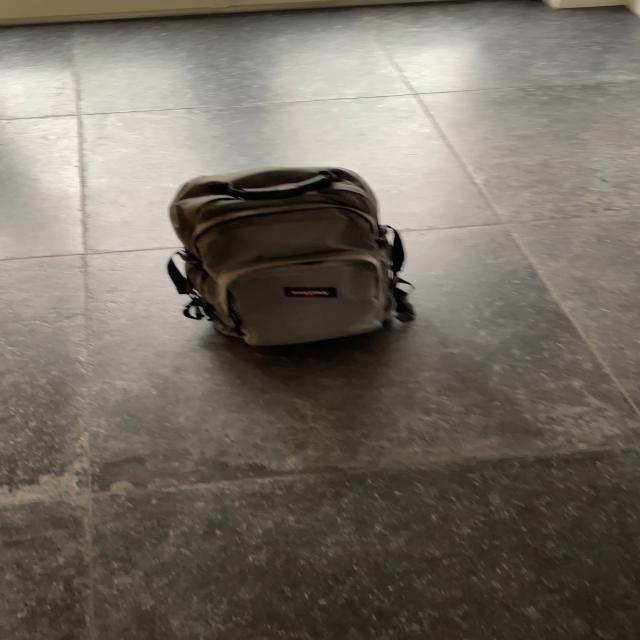backpack: (154, 159, 418, 353)
